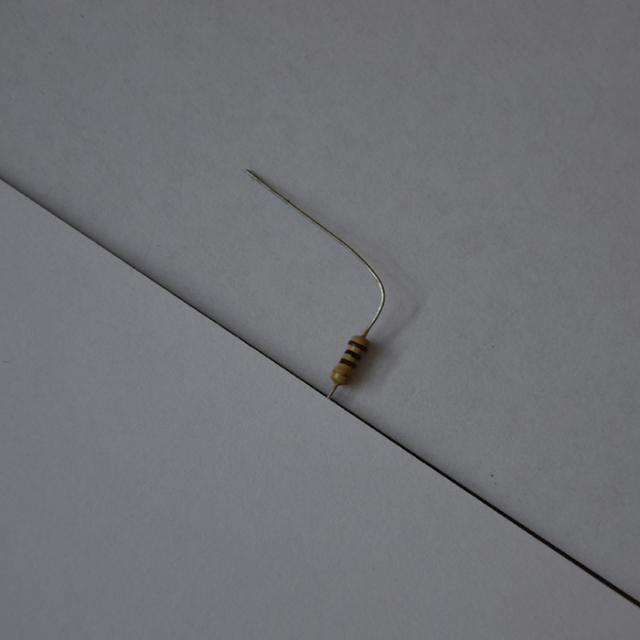black: (345, 348, 361, 360)
brown: (349, 340, 368, 351), (340, 360, 357, 366)
gold: (330, 368, 349, 382)
resistor: (324, 329, 376, 391)
